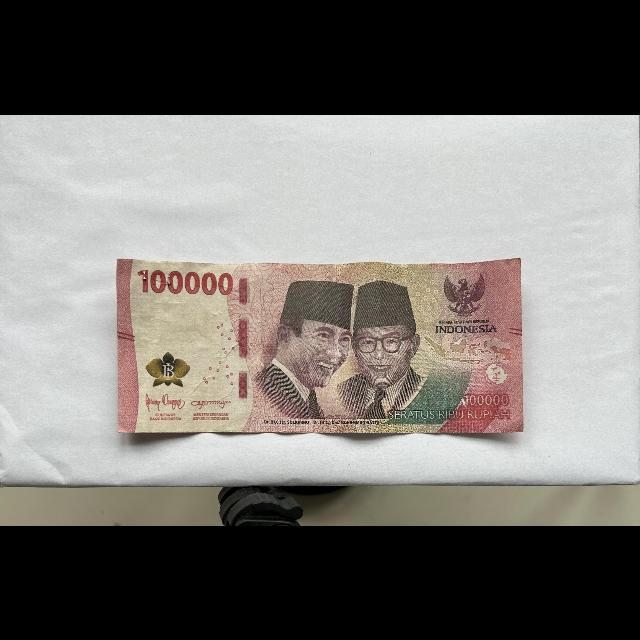Palsu-100k: (115, 255, 526, 433)
Tinta-Palsu-100k: (145, 350, 191, 386)
